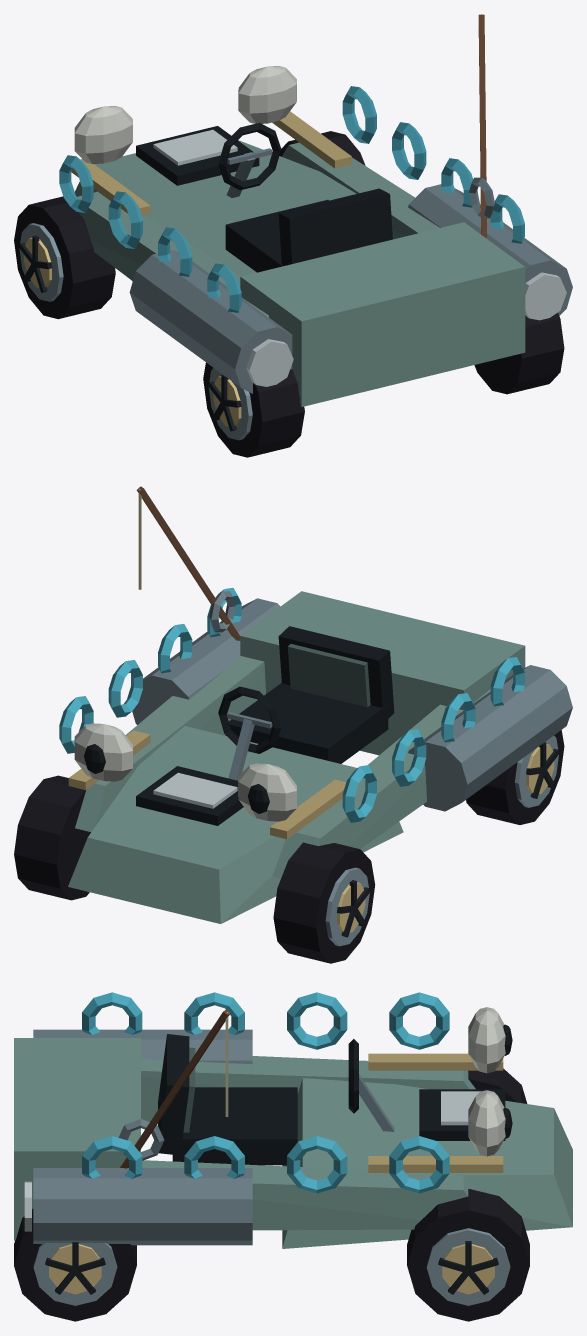
Rendered from kart.glb.
The picture shows the model from 3 angles, top to bottom: view 1: azimuth 30°, elevation 25°; view 2: azimuth 150°, elevation 25°; view 3: azimuth 270°, elevation 25°; orthographic projection. The views are drawn at different scales.
Parts seen in each view (by area): view 1: identity-lab-pod-lab-pod-segmented-shell, identity-lab-pod-driver-cockpit, identity-lab-pod-motif-water, wheel-front-left, wheel-rear-left, identity-lab-pod-motif-eyes, wheel-rear-right, identity-lab-pod-motif-fishing, wheel-front-right; view 2: identity-lab-pod-lab-pod-segmented-shell, identity-lab-pod-driver-cockpit, wheel-front-left, identity-lab-pod-motif-water, wheel-front-right, identity-lab-pod-motif-eyes, wheel-rear-left, identity-lab-pod-motif-fishing; view 3: identity-lab-pod-lab-pod-segmented-shell, identity-lab-pod-motif-water, wheel-front-right, identity-lab-pod-driver-cockpit, wheel-rear-right, identity-lab-pod-motif-eyes, identity-lab-pod-motif-fishing, wheel-front-left.
Part boxes in pixels (<box>): identity-lab-pod-lab-pod-segmented-shell: <box>71,111,572,406</box>; identity-lab-pod-driver-cockpit: <box>218,123,392,272</box>; identity-lab-pod-motif-water: <box>59,86,524,312</box>; wheel-front-left: <box>14,195,115,319</box>; wheel-rear-left: <box>203,362,304,457</box>; identity-lab-pod-motif-eyes: <box>74,66,296,164</box>; wheel-rear-right: <box>474,312,564,394</box>; identity-lab-pod-motif-fishing: <box>469,14,494,237</box>; wheel-front-right: <box>279,131,365,165</box>; identity-lab-pod-lab-pod-segmented-shell: <box>68,591,572,923</box>; identity-lab-pod-driver-cockpit: <box>218,626,394,780</box>; wheel-front-left: <box>273,842,375,963</box>; identity-lab-pod-motif-water: <box>59,588,524,822</box>; wheel-front-right: <box>14,775,90,900</box>; identity-lab-pod-motif-eyes: <box>74,723,296,821</box>; wheel-rear-left: <box>466,730,564,824</box>; identity-lab-pod-motif-fishing: <box>136,486,240,640</box>; identity-lab-pod-lab-pod-segmented-shell: <box>14,1029,572,1248</box>; identity-lab-pod-motif-water: <box>82,992,449,1193</box>; wheel-front-right: <box>407,1188,529,1321</box>; identity-lab-pod-driver-cockpit: <box>158,1034,394,1165</box>; wheel-rear-right: <box>14,1208,136,1321</box>; identity-lab-pod-motif-eyes: <box>468,1007,512,1156</box>; identity-lab-pod-motif-fishing: <box>118,1009,230,1168</box>; wheel-front-left: <box>468,1068,527,1103</box>.
Bounding box in the file's own units: 2.01 × 1.73 × 2.73.
